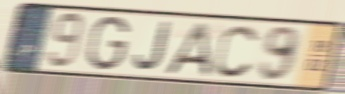9: (256, 24, 304, 84), (43, 11, 85, 72)
A: (162, 20, 212, 78)
C: (212, 22, 262, 80)
G: (85, 14, 131, 72)
J: (132, 20, 173, 73)
